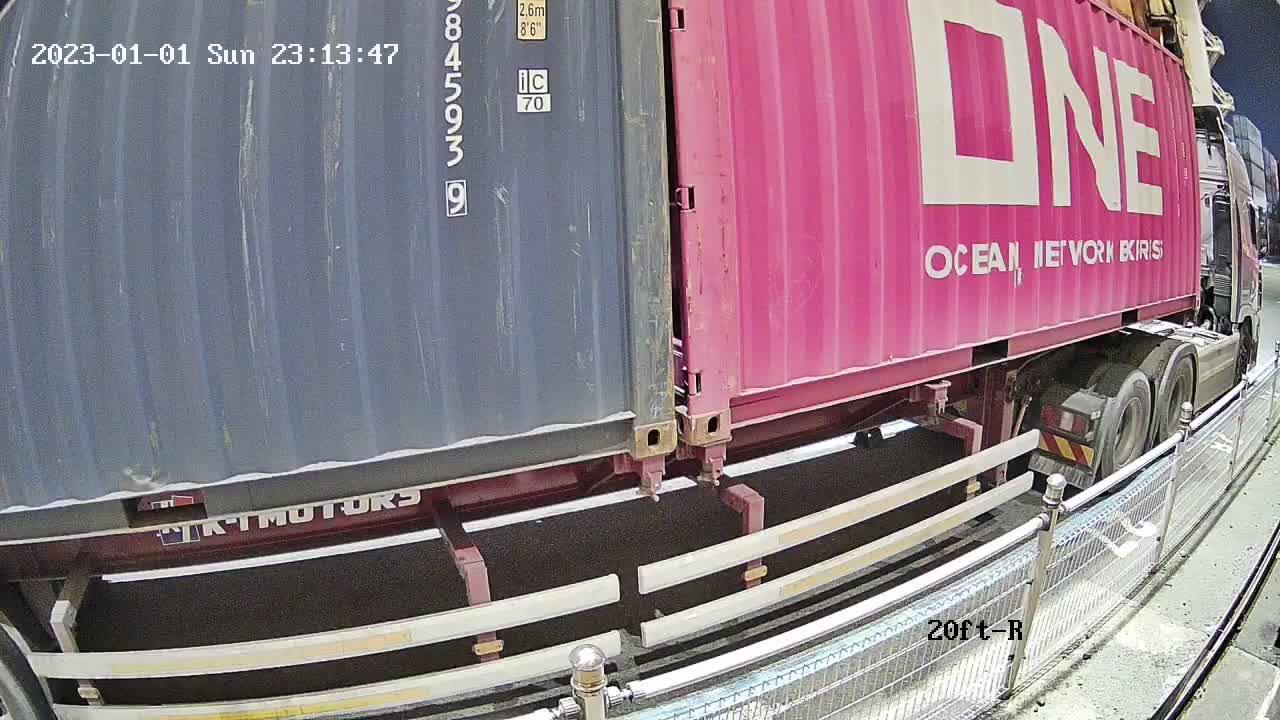Cone: (632, 455, 670, 501), (692, 445, 730, 490)
Hole_L: (690, 367, 761, 445)
Hole_R: (583, 377, 677, 459)
Tire: (1104, 371, 1153, 483), (1163, 355, 1195, 444)
